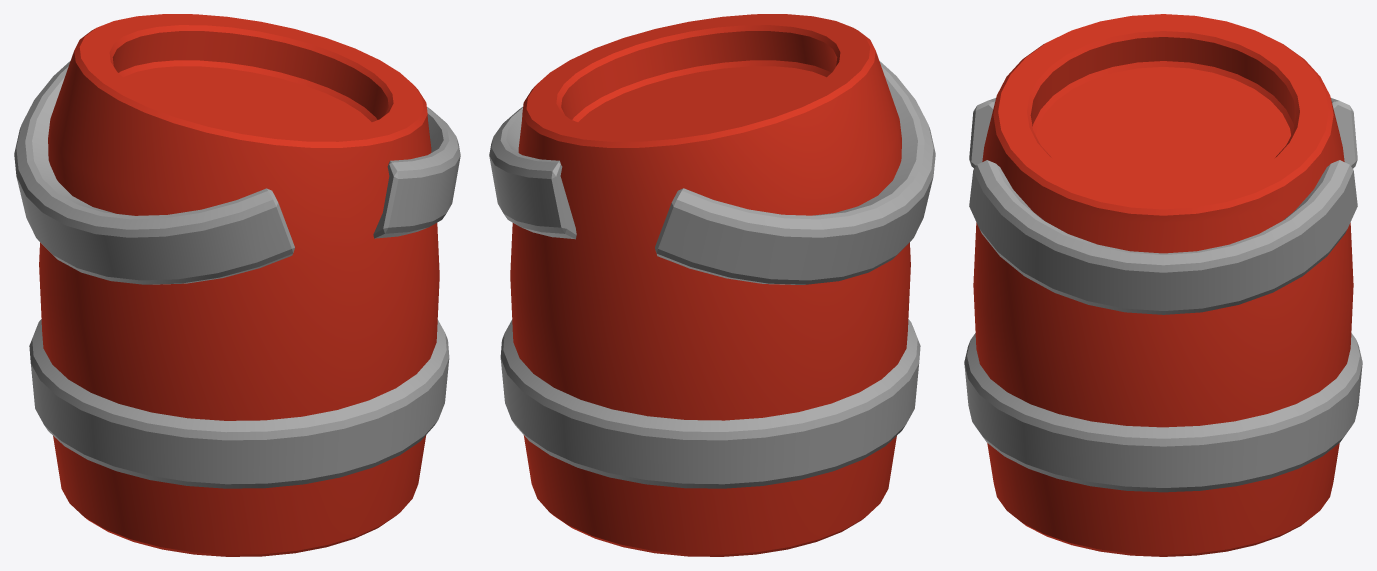
The model's file is Barrel_Damaged.glb.
3 renders of one model, left to right at view 1: azimuth 30°, elevation 25°; view 2: azimuth 150°, elevation 25°; view 3: azimuth 270°, elevation 25°, orthographic. The views are drawn at different scales.
Visible parts, largest first — view 1: Body, Bands; view 2: Body, Bands; view 3: Body, Bands.
Part boxes in pixels (bbox=[...]): Body: bbox=[39, 14, 439, 556]; Bands: bbox=[14, 61, 460, 488]; Body: bbox=[510, 14, 910, 556]; Bands: bbox=[489, 61, 935, 488]; Body: bbox=[973, 14, 1353, 556]; Bands: bbox=[964, 98, 1362, 492].
Bounding box in the file's own units: 1.86 × 1.98 × 1.74.
